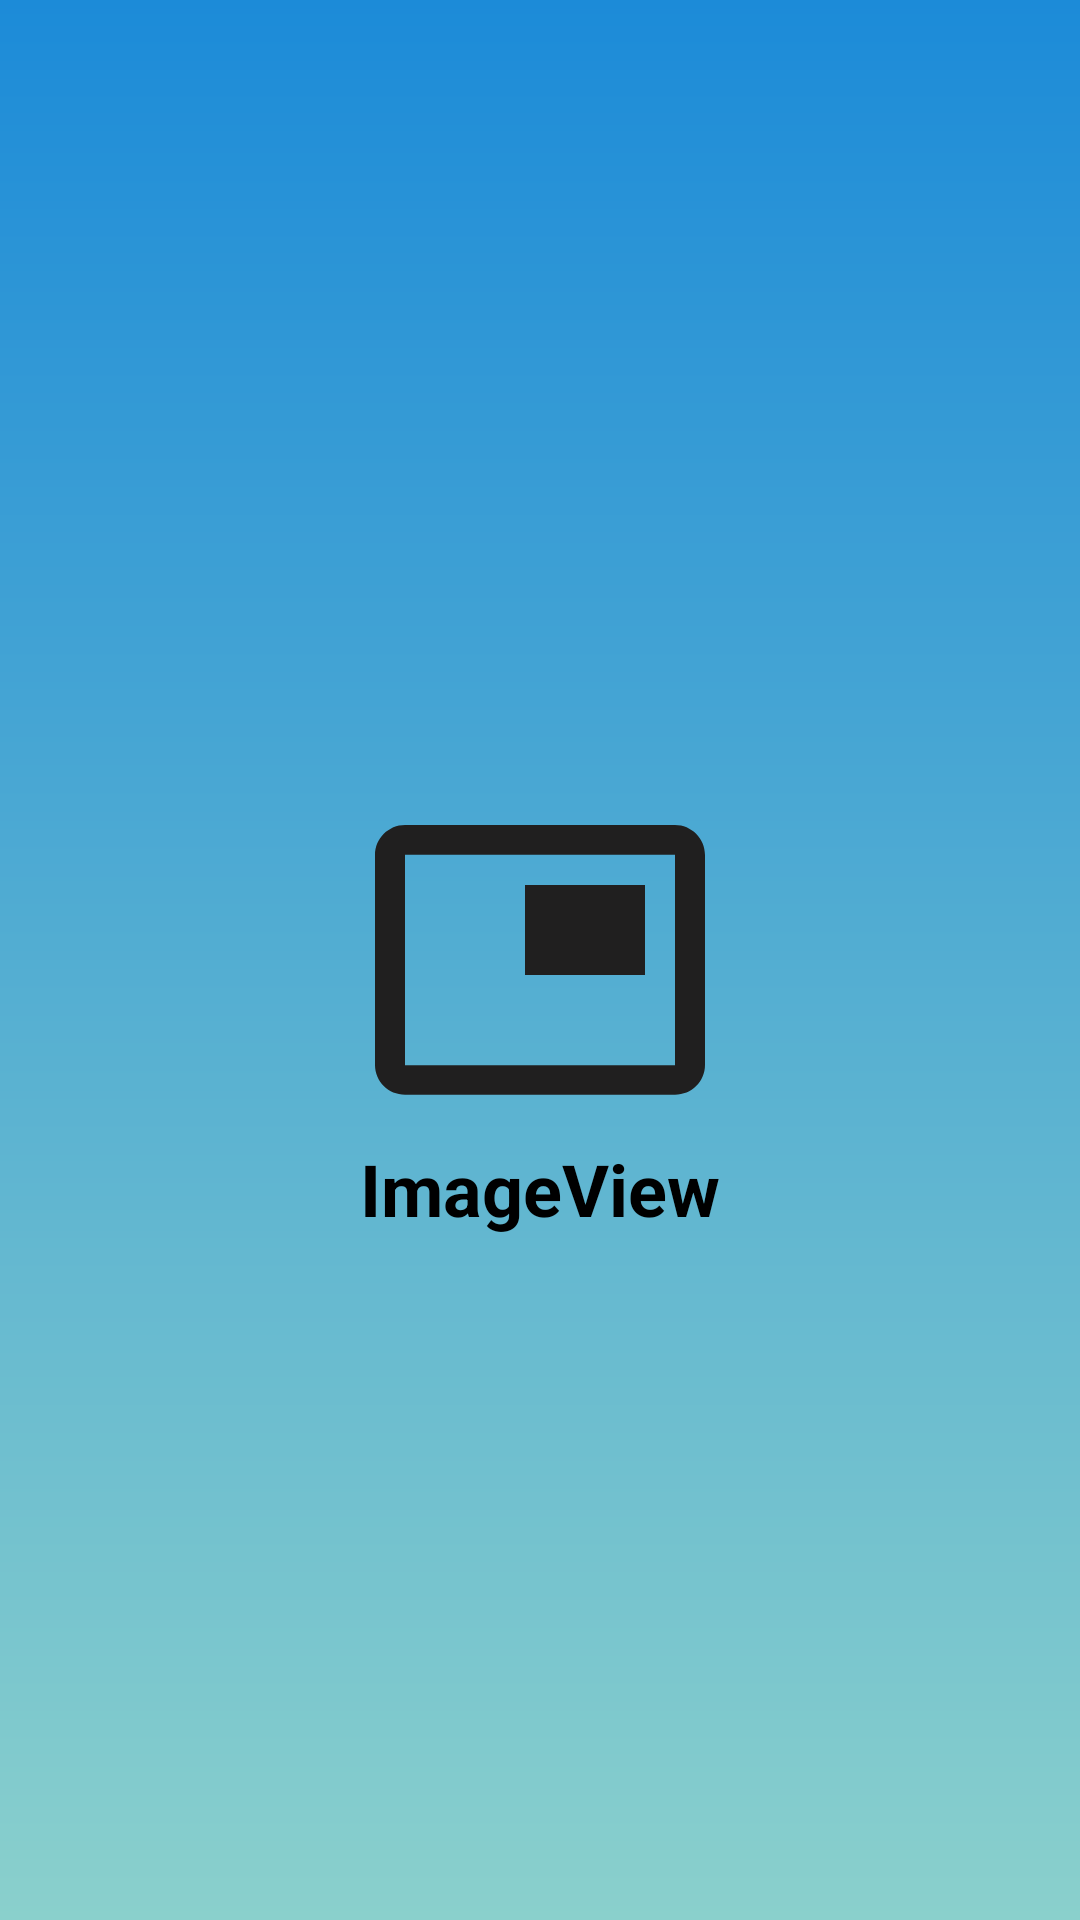

Where icons sit on this 1080px×1920px app screen, as (x1, y1, x2, y2):
picture in: (360, 780, 720, 1095)
